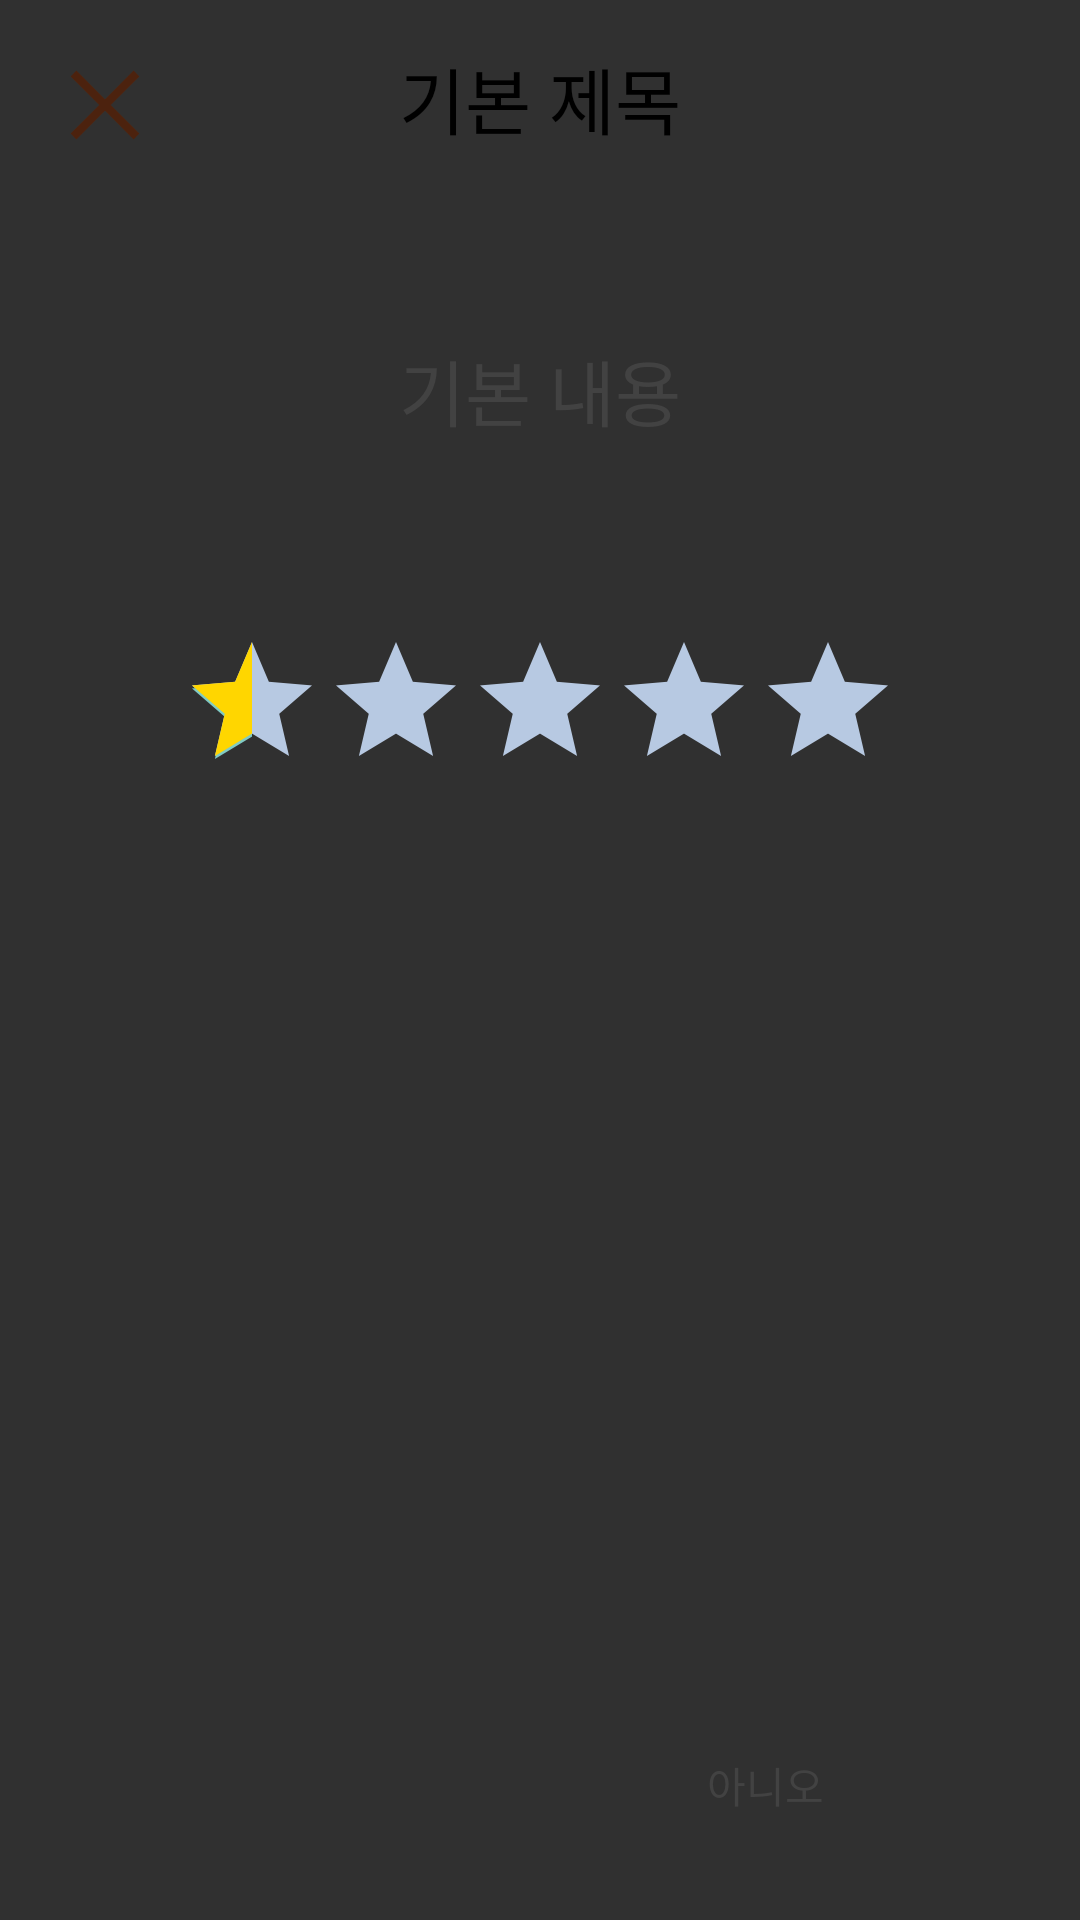

Icons on this 1080x1920 Android screen, each with its box as (x1, y1, x2, y2):
close: (71, 71, 139, 139)
